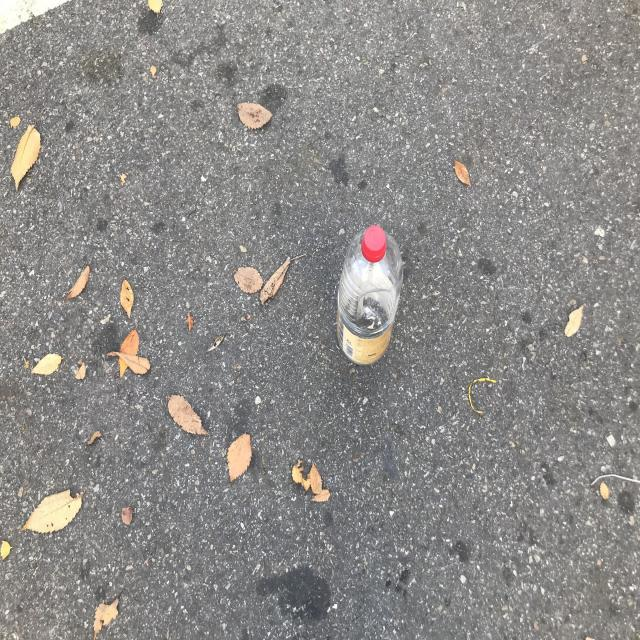plastic: (337, 225, 404, 364)
